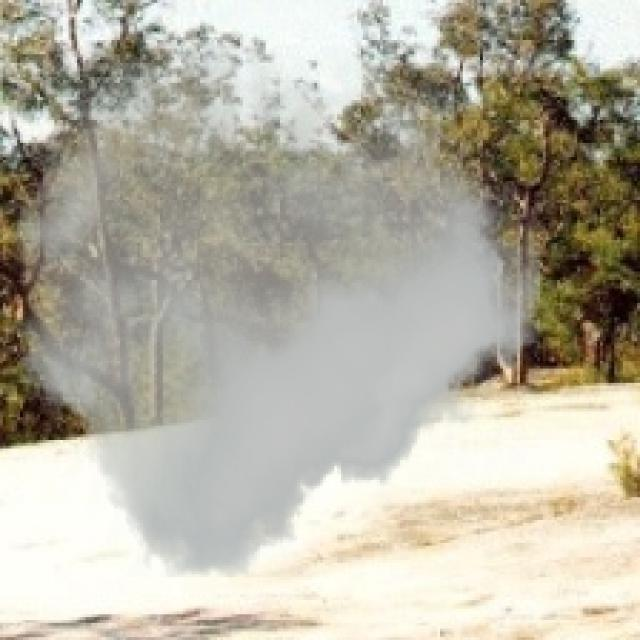smoke: (11, 46, 540, 577)
